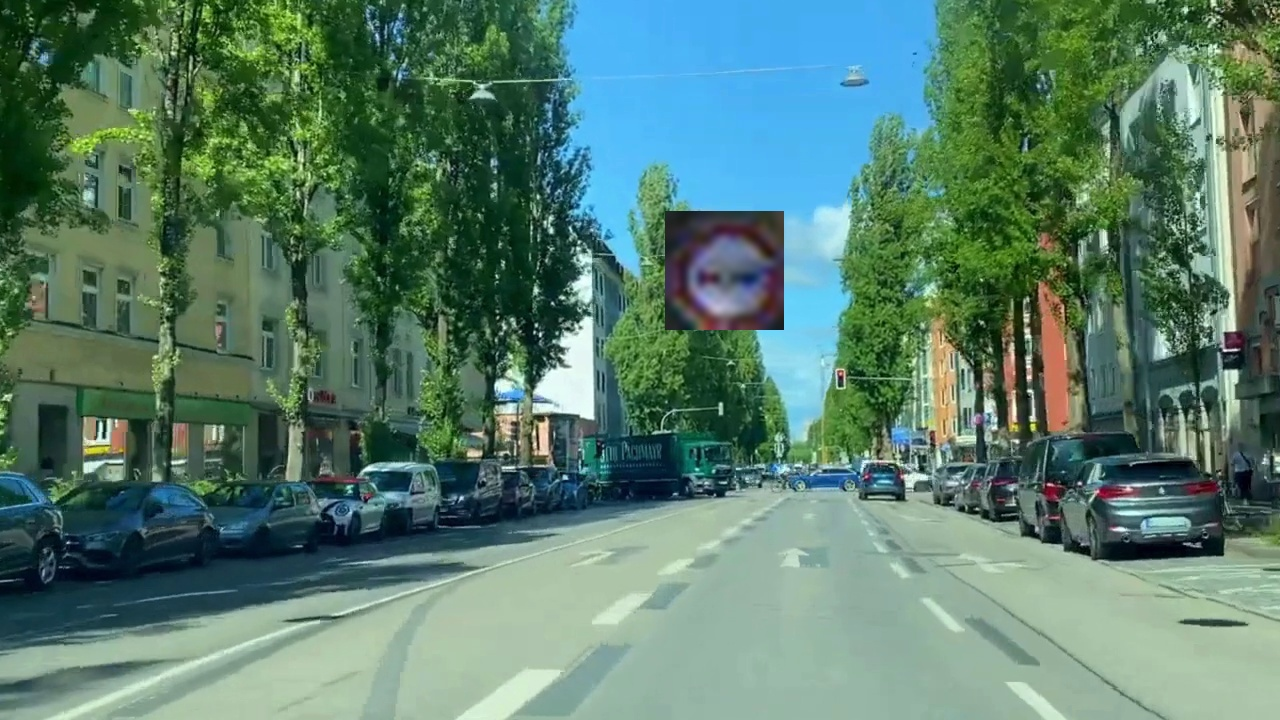No passing: (665, 211, 784, 330)
